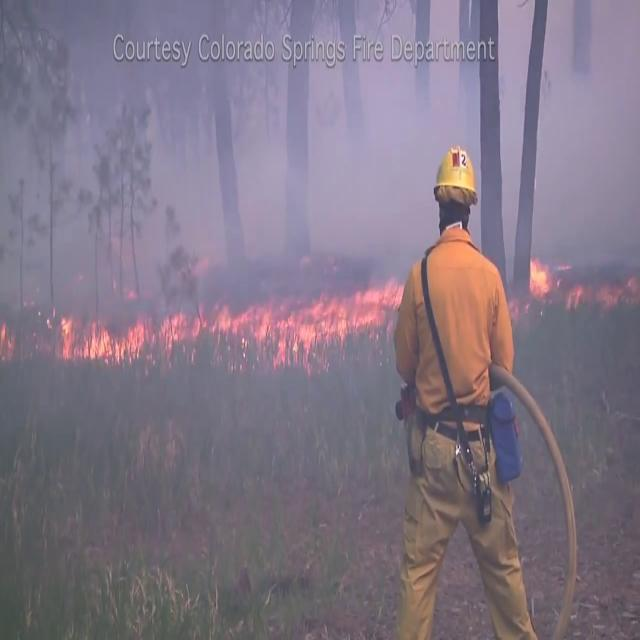Fire: (163, 258, 407, 366), (56, 302, 152, 370), (526, 256, 558, 308)
Smoke: (1, 0, 473, 349), (501, 0, 640, 286)
